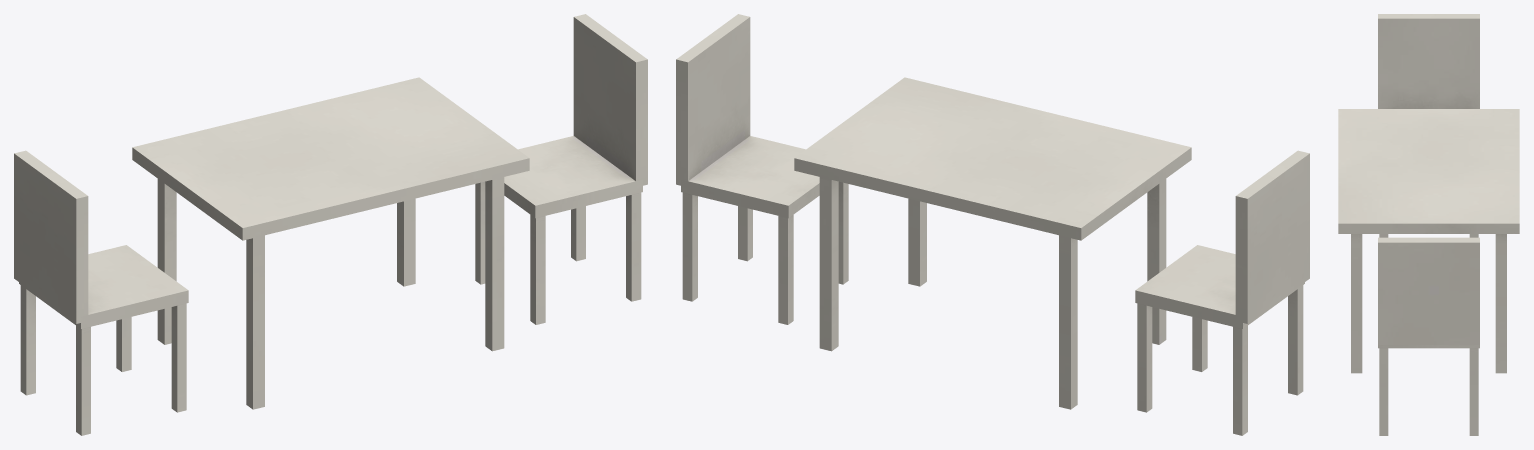
Rendered from utemobler_tex.glb.
3 renders of one model, left to right at view 1: azimuth 30°, elevation 25°; view 2: azimuth 150°, elevation 25°; view 3: azimuth 270°, elevation 25°, orthographic. The views are drawn at different scales.
Parts seen in each view (by area): view 1: utemobler; view 2: utemobler; view 3: utemobler.
Boxes of the visible parts, box(x1,y1,x2,y2) form: utemobler: box(14, 14, 647, 435); utemobler: box(676, 14, 1309, 435); utemobler: box(1338, 14, 1519, 435).
Size of the model in its own units: 2.39 by 0.955 by 0.8.
Materials: 1 (1 with a texture image).
